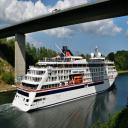cruises: (13, 43, 120, 115)
